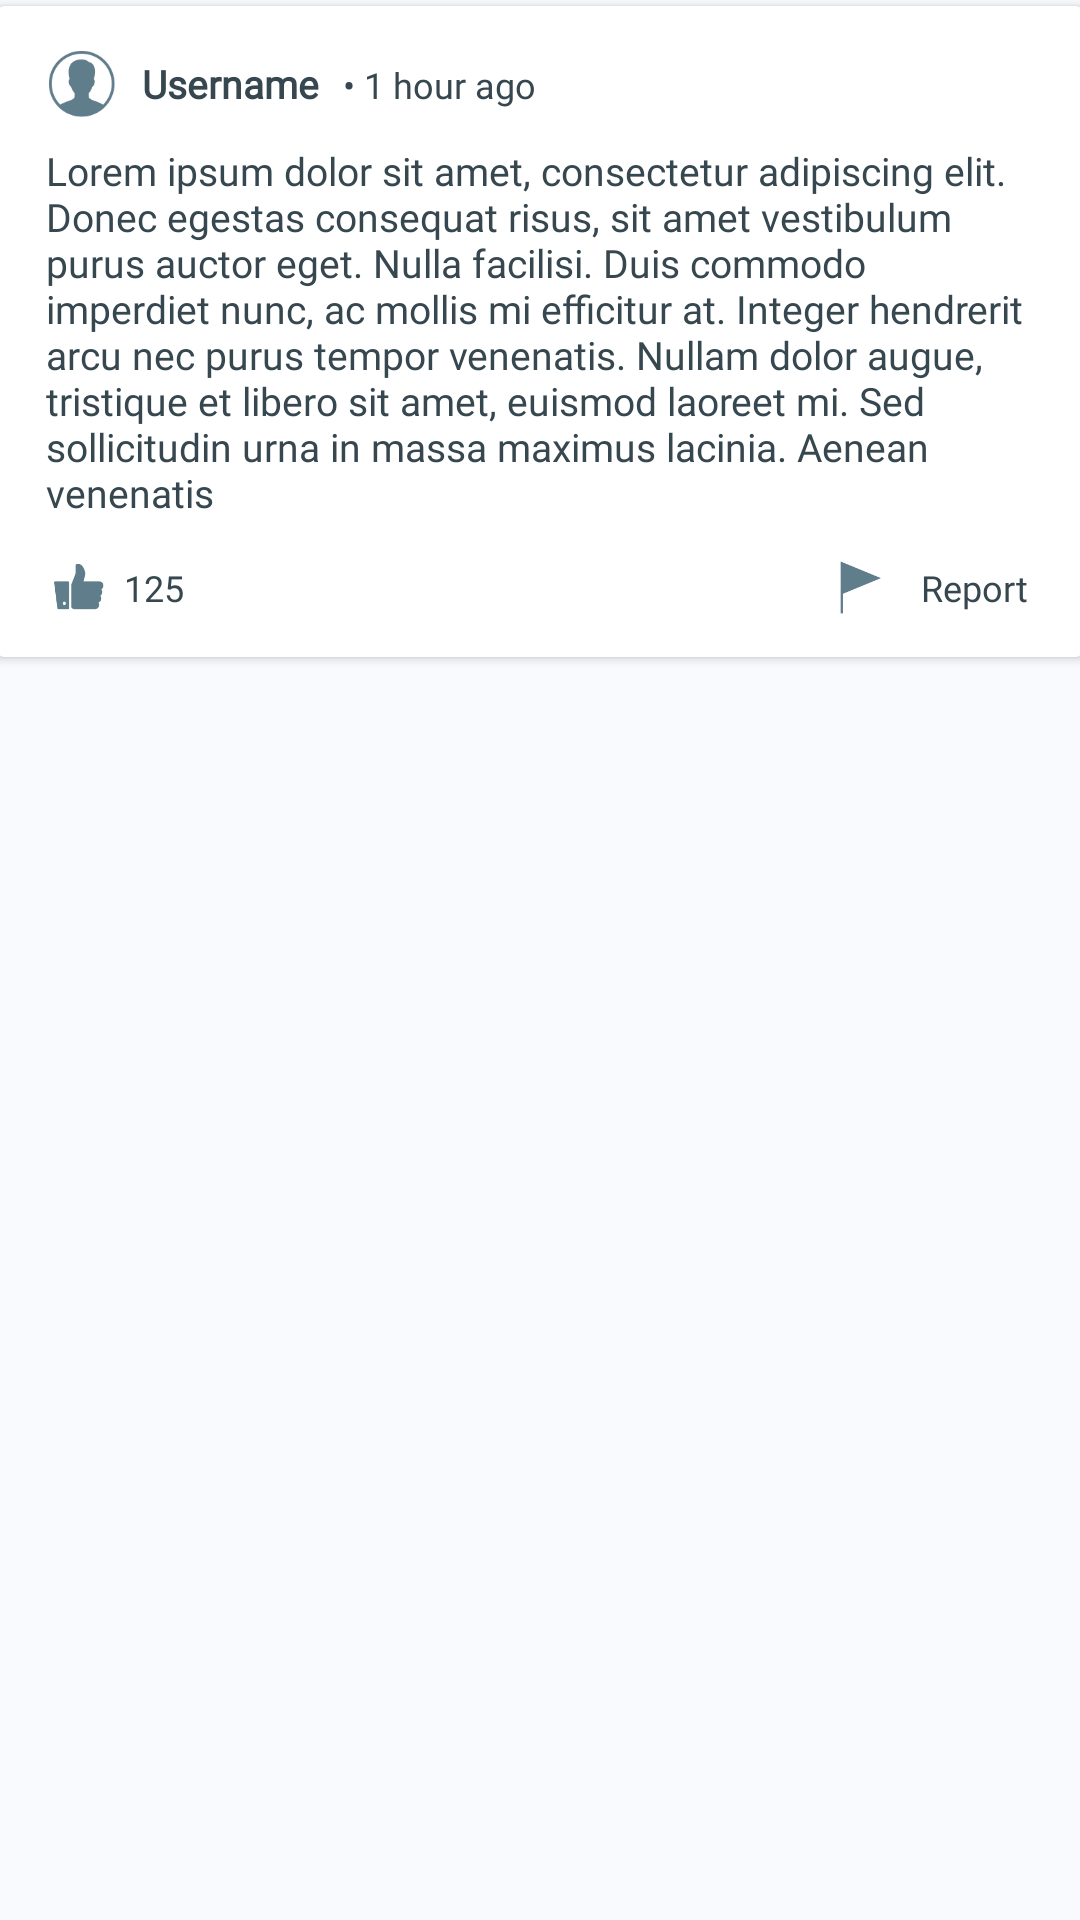

Where icons sit on this 1080px×1920px app screen, as bbox(x1, y1, x2, y2):
holder user: bbox(49, 51, 115, 117)
like: bbox(54, 564, 104, 610)
